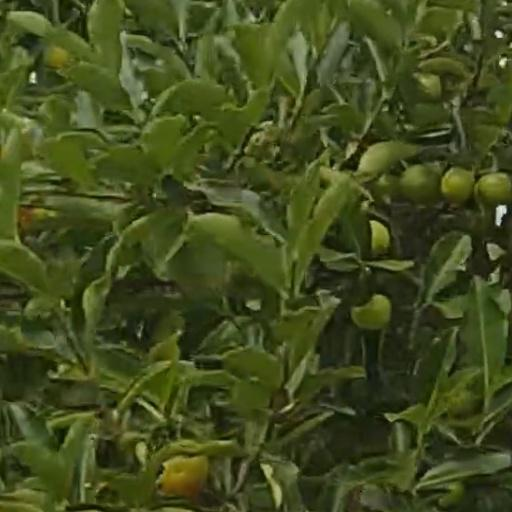acerola: (163, 459, 206, 497), (442, 166, 472, 206), (353, 301, 391, 330), (474, 175, 507, 207)
